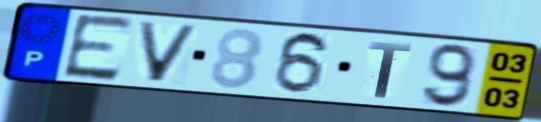6: (272, 30, 337, 97)
8: (206, 26, 268, 91)
9: (421, 41, 479, 109)
E: (59, 12, 138, 84)
T: (366, 39, 414, 100)
V: (134, 19, 203, 85)
